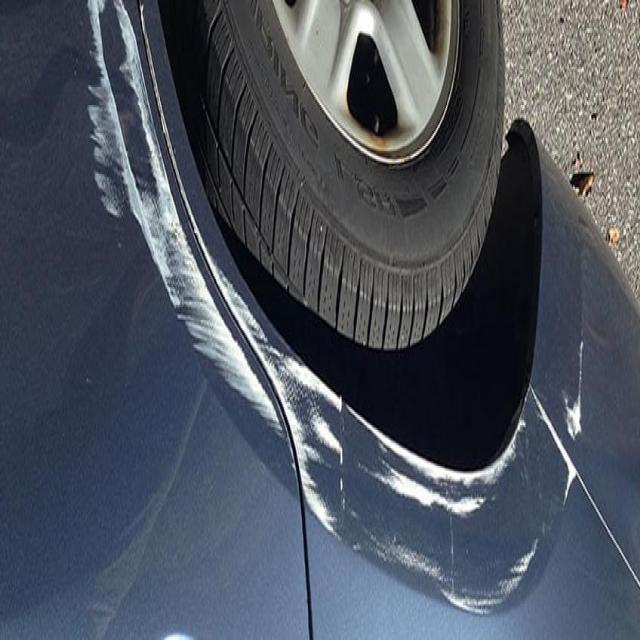scratch: (75, 4, 339, 552), (354, 371, 602, 624)
